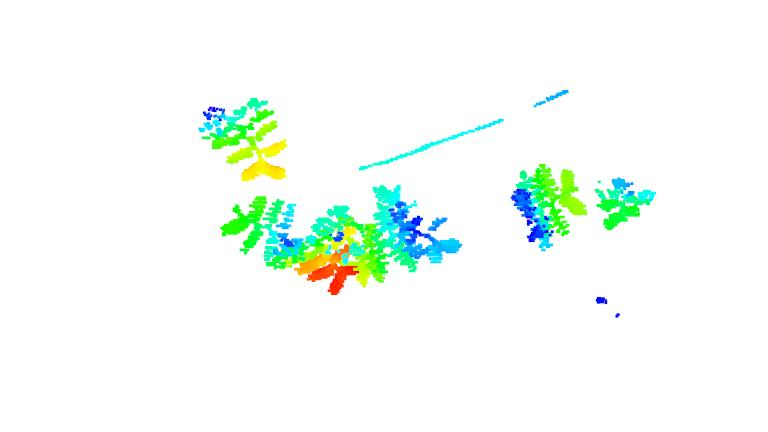chickpea: (369, 182, 461, 270), (198, 97, 287, 186), (509, 163, 591, 254), (303, 205, 381, 294), (217, 196, 304, 275), (594, 178, 657, 232)
